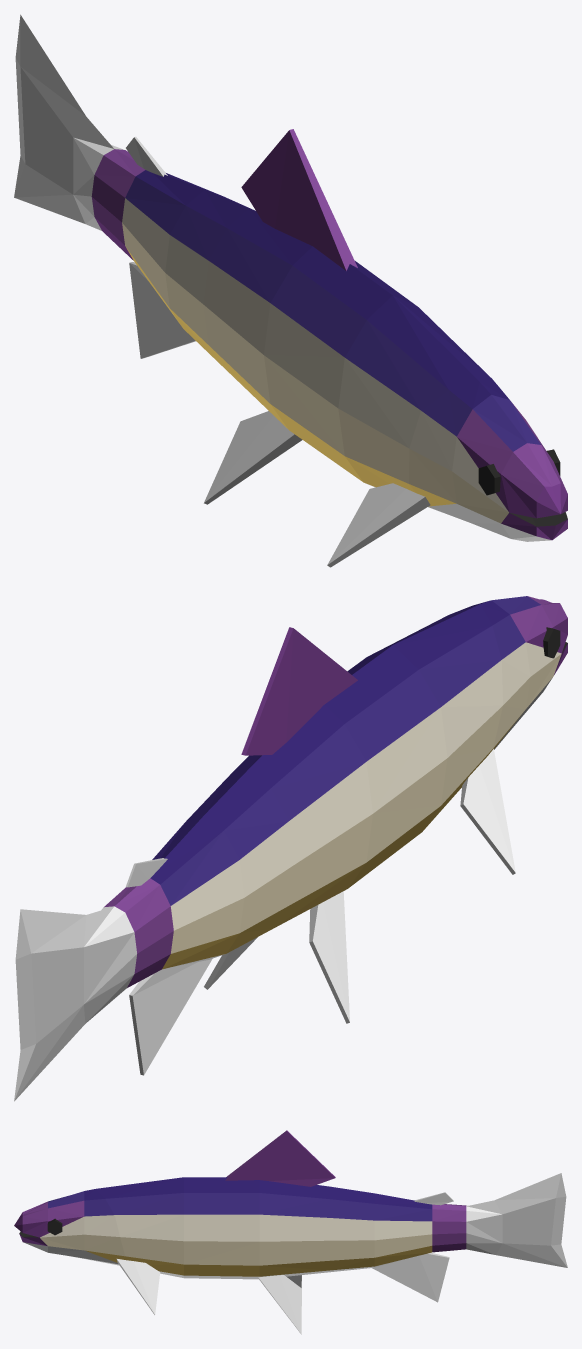
The model's file is fishA.gltf.
3 renders of one model, top to bottom at view 1: azimuth 30°, elevation 25°; view 2: azimuth 150°, elevation 25°; view 3: azimuth 270°, elevation 25°, orthographic. The views are drawn at different scales.
Parts seen in each view (by area): view 1: fishA; view 2: fishA; view 3: fishA.
Part boxes in pixels (bbox=[...]): fishA: bbox=[14, 14, 567, 567]; fishA: bbox=[14, 596, 567, 1101]; fishA: bbox=[14, 1130, 567, 1334].
Bounding box in the file's own units: 0.5576 × 1.04 × 2.8.
1 material, 1 textured.
